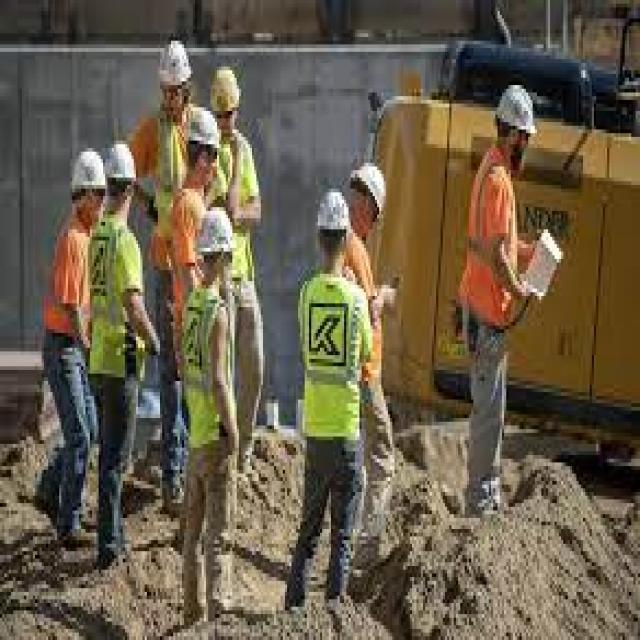Reflective-Jacket: (287, 266, 379, 470), (171, 277, 248, 473), (452, 148, 528, 340), (81, 214, 151, 396), (206, 125, 272, 288), (33, 211, 101, 366)
Safety-Helmet: (344, 148, 397, 229), (59, 137, 112, 211), (188, 200, 239, 274), (307, 178, 357, 252), (489, 74, 541, 144), (175, 100, 226, 166), (152, 33, 200, 100), (206, 55, 250, 126), (99, 129, 142, 200)
